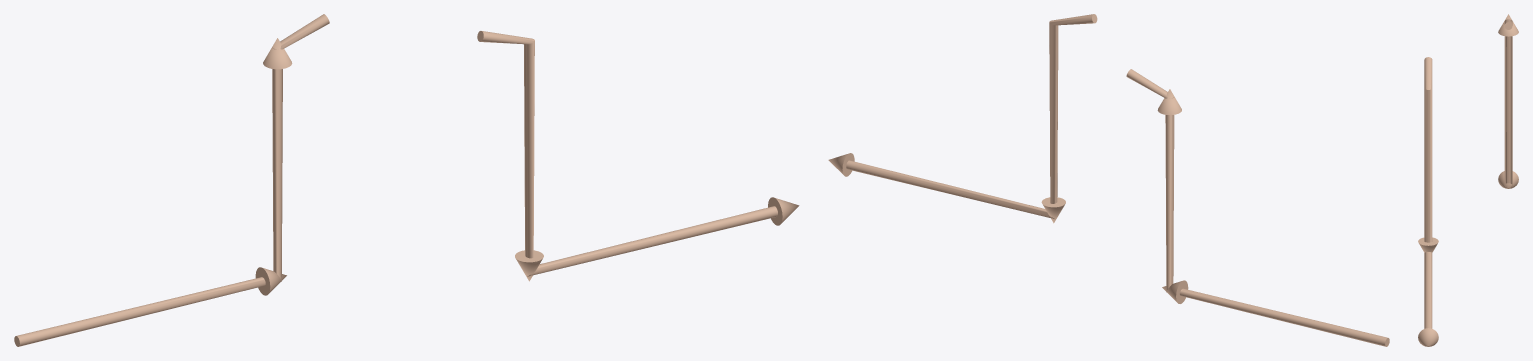
Rendered from gas_holder_flow.glb.
3 views of the same model, side by side, from view 1: azimuth 30°, elevation 25°; view 2: azimuth 150°, elevation 25°; view 3: azimuth 270°, elevation 25° (orthographic). The views are drawn at different scales.
Visible parts, largest first — view 1: gas_in, gas_out; view 2: gas_in, gas_out; view 3: gas_out, gas_in.
Boxes of the visible parts, box(x1,y1,x2,y2) form: gas_in: box(14, 14, 329, 346); gas_out: box(477, 31, 799, 281); gas_in: box(1126, 69, 1389, 346); gas_out: box(828, 14, 1097, 223); gas_out: box(1418, 57, 1438, 346); gas_in: box(1498, 14, 1518, 188).
Bounding box in the file's own units: 4.46 × 1.56 × 0.756.
